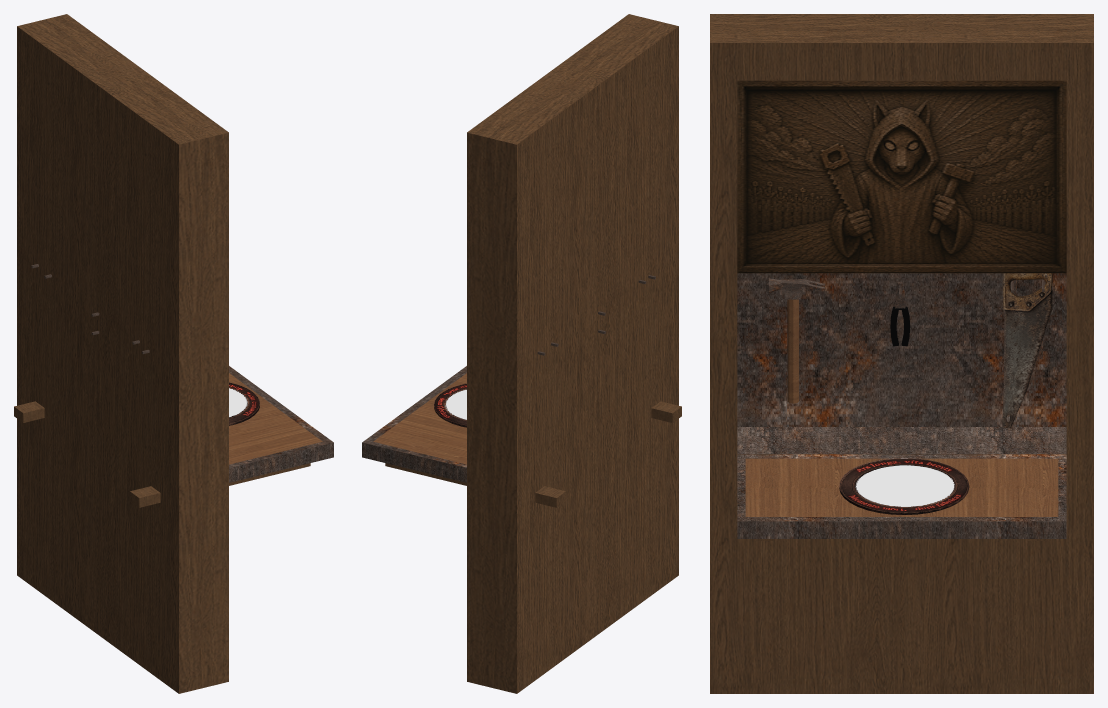
File: Workbench.fbx
The picture shows the model from 3 angles, left to right: view 1: azimuth 30°, elevation 25°; view 2: azimuth 150°, elevation 25°; view 3: azimuth 270°, elevation 25°; orthographic projection. The views are drawn at different scales.
Parts seen in each view (by area): view 1: Workbench, workbenchTable, tableLegs, Cylinder.009; view 2: Workbench, workbenchTable, tableLegs, Cylinder.009; view 3: Workbench, workbenchTable, Cylinder.009, Saw, Hammer, Pliers.
Part boxes in pixels (x1,y1,x2,y2): Workbench: [17, 14, 228, 693]; workbenchTable: [229, 366, 333, 482]; tableLegs: [14, 401, 310, 507]; Cylinder.009: [229, 382, 259, 425]; Workbench: [467, 14, 678, 693]; workbenchTable: [362, 366, 466, 482]; tableLegs: [385, 401, 681, 507]; Cylinder.009: [434, 383, 466, 427]; Workbench: [710, 14, 1093, 693]; workbenchTable: [737, 454, 1066, 538]; Cylinder.009: [839, 458, 969, 514]; Saw: [1002, 273, 1052, 427]; Hammer: [766, 278, 824, 403]; Pliers: [890, 282, 910, 346].
Size of the model in its own units: 3.23 by 9.01 by 4.82.
